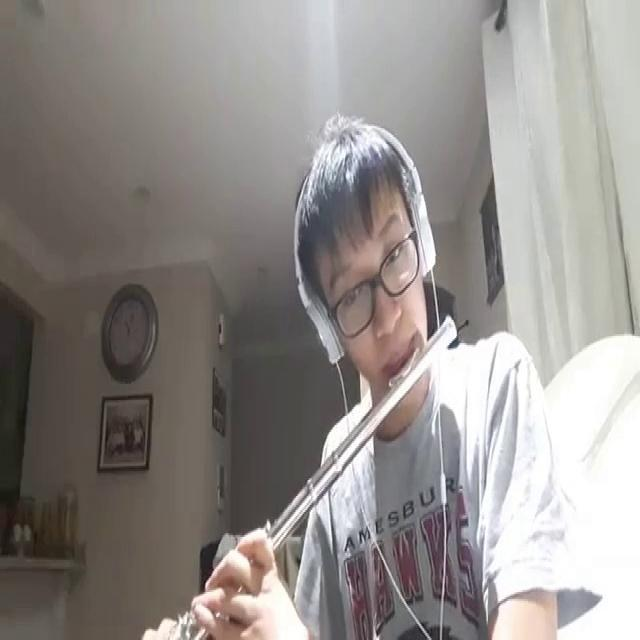Flute: (172, 296, 470, 640)
